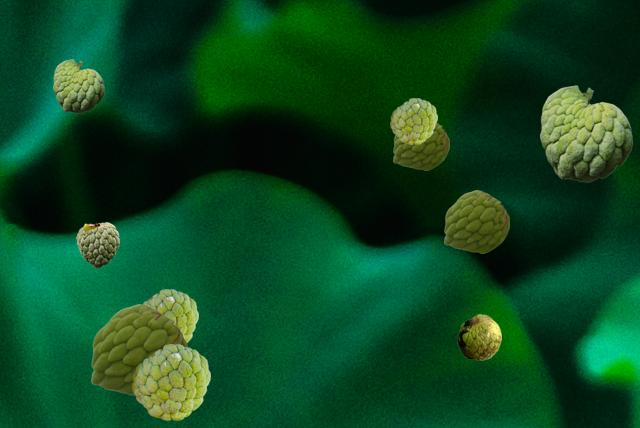atis: (91, 304, 186, 396), (540, 85, 631, 181), (132, 344, 209, 419), (444, 190, 508, 252), (142, 289, 197, 343), (53, 59, 103, 112), (393, 122, 448, 169), (390, 98, 436, 143), (457, 314, 500, 359), (76, 222, 118, 267)
